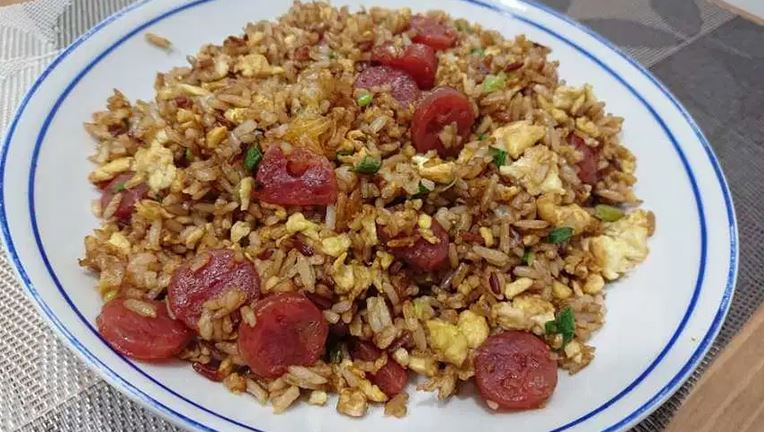chinese_sausage: (171, 255, 251, 324), (471, 333, 547, 399), (101, 298, 188, 353), (244, 302, 313, 359), (259, 155, 335, 202), (393, 215, 453, 268), (416, 98, 462, 158), (351, 65, 406, 115), (351, 342, 399, 385), (572, 135, 604, 189), (383, 43, 427, 82), (117, 185, 154, 215), (420, 28, 450, 45)
